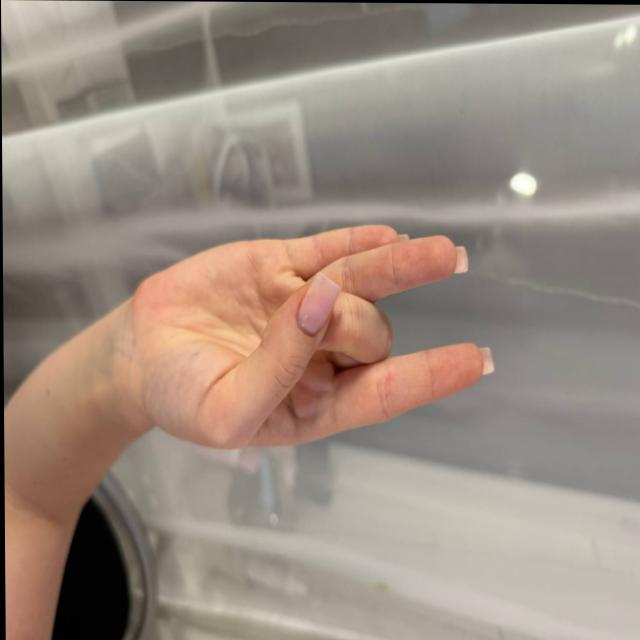r: (80, 193, 497, 514)
